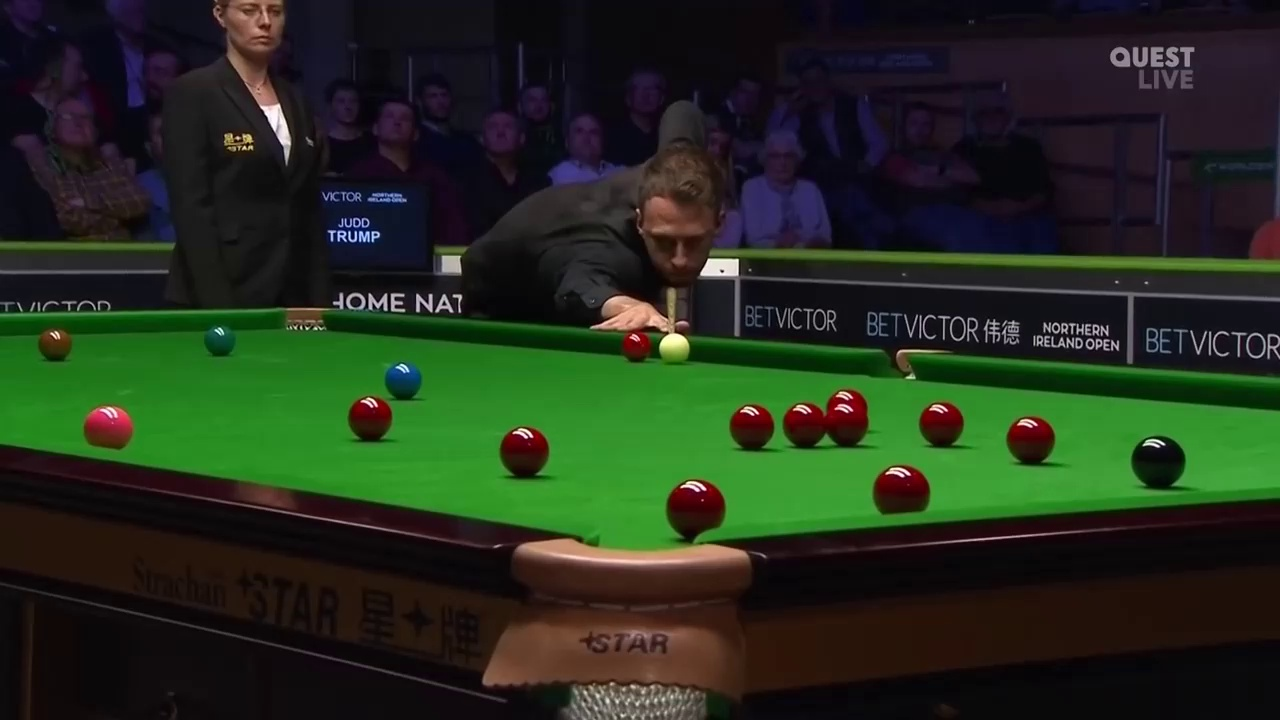black: (1129, 436, 1183, 487)
blue: (383, 363, 422, 397)
brown: (36, 325, 73, 359)
green: (203, 326, 237, 354)
pink: (80, 404, 136, 448)
red: (668, 480, 724, 530), (874, 464, 930, 514), (496, 426, 550, 476), (1003, 416, 1057, 462), (347, 394, 394, 443), (919, 400, 964, 450), (729, 403, 774, 450), (824, 400, 867, 446), (781, 402, 824, 448), (623, 331, 652, 360)
white: (658, 332, 689, 366)
